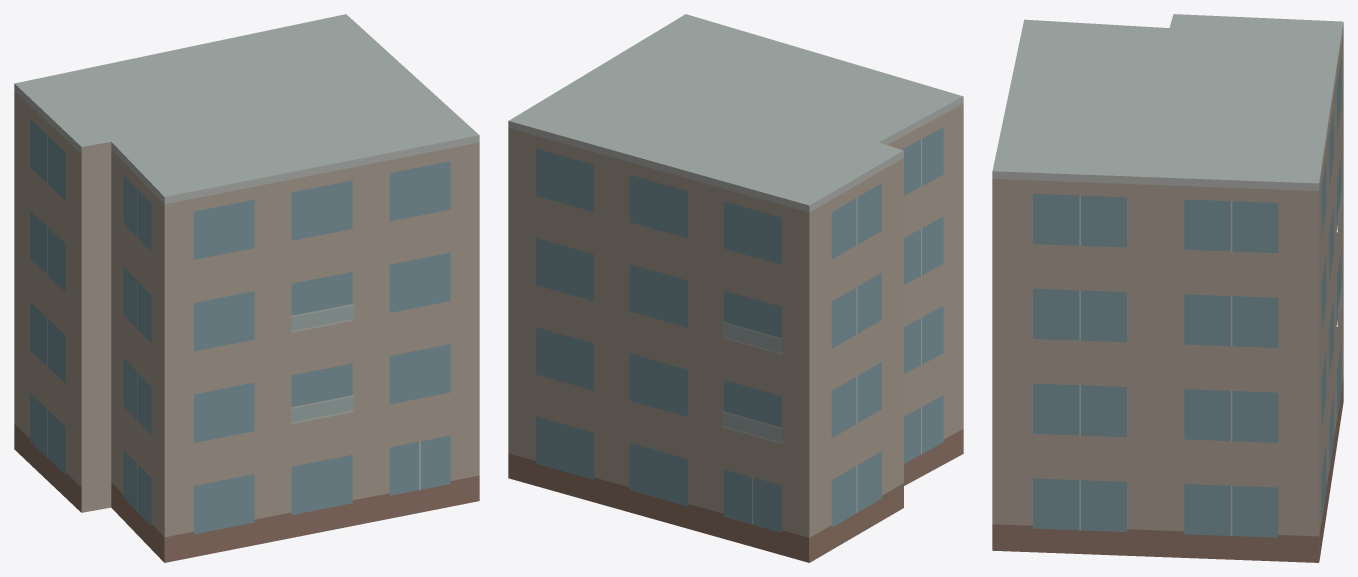
The model's file is survey-upis-32807037.glb.
3 renders of one model, left to right at view 1: azimuth 30°, elevation 25°; view 2: azimuth 150°, elevation 25°; view 3: azimuth 270°, elevation 25°, orthographic. The views are drawn at different scales.
Parts seen in each view (by area): view 1: survey-upis-32807037.tmp; view 2: survey-upis-32807037.tmp; view 3: survey-upis-32807037.tmp.
Boxes of the visible parts, <box> form: survey-upis-32807037.tmp: <box>14,14,479,562</box>; survey-upis-32807037.tmp: <box>508,14,963,562</box>; survey-upis-32807037.tmp: <box>992,14,1343,562</box>.
Size of the model in its own units: 11.69 by 12.2 by 10.24.
